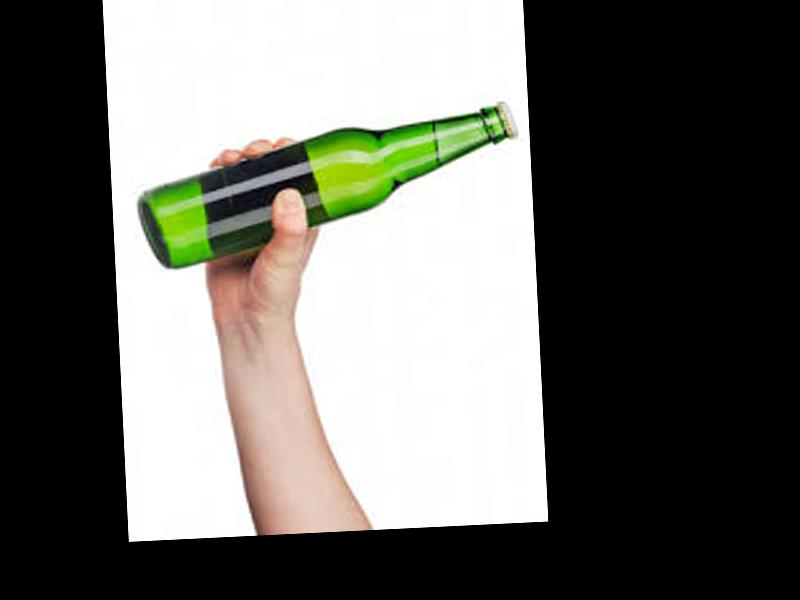Beer: (133, 101, 523, 270)
